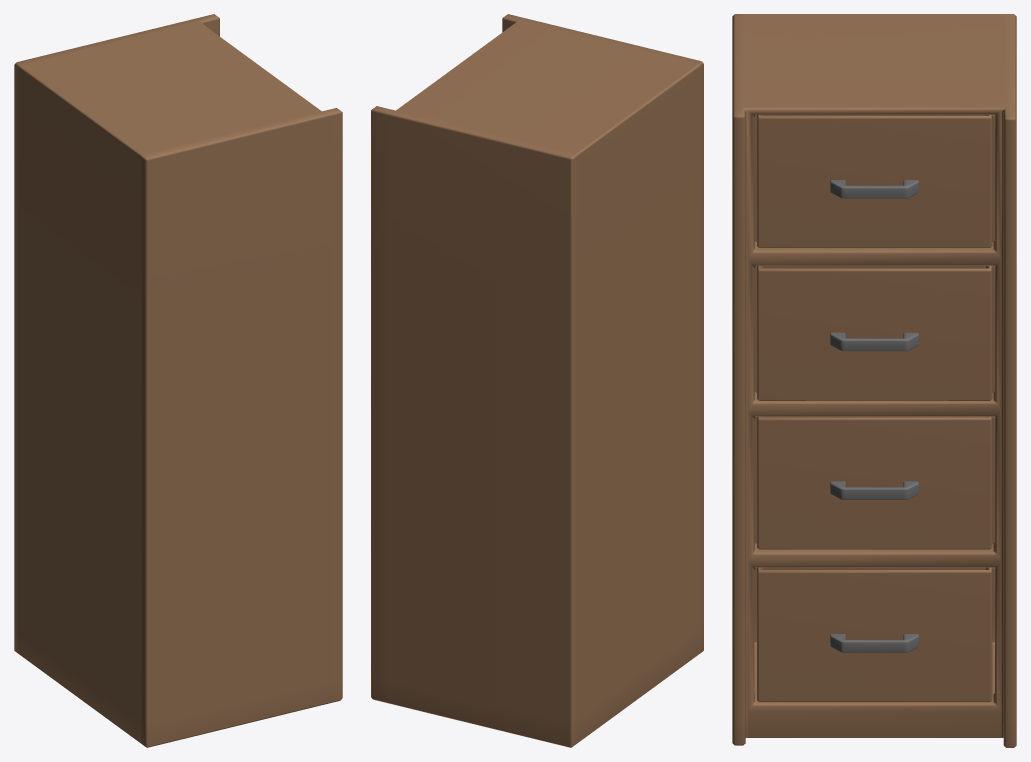
The model's file is office_filecabinet.fbx.
The picture shows the model from 3 angles, left to right: view 1: azimuth 30°, elevation 25°; view 2: azimuth 150°, elevation 25°; view 3: azimuth 270°, elevation 25°; orthographic projection. The views are drawn at different scales.
Visible parts, largest first — view 1: Cube; view 2: Cube; view 3: Cube, Cube.001, Cube.002, Cube.004, Cube.003.
Part boxes in pixels (x1=…): Cube: x1=14, y1=14, x2=342, y2=747; Cube: x1=371, y1=14, x2=703, y2=747; Cube: x1=732, y1=14, x2=1016, y2=747; Cube.001: x1=757, y1=567, x2=992, y2=702; Cube.002: x1=757, y1=266, x2=992, y2=400; Cube.004: x1=757, y1=115, x2=992, y2=248; Cube.003: x1=757, y1=416, x2=992, y2=549.
Bounding box in the file's own units: 77.27 × 216 × 88.07.
